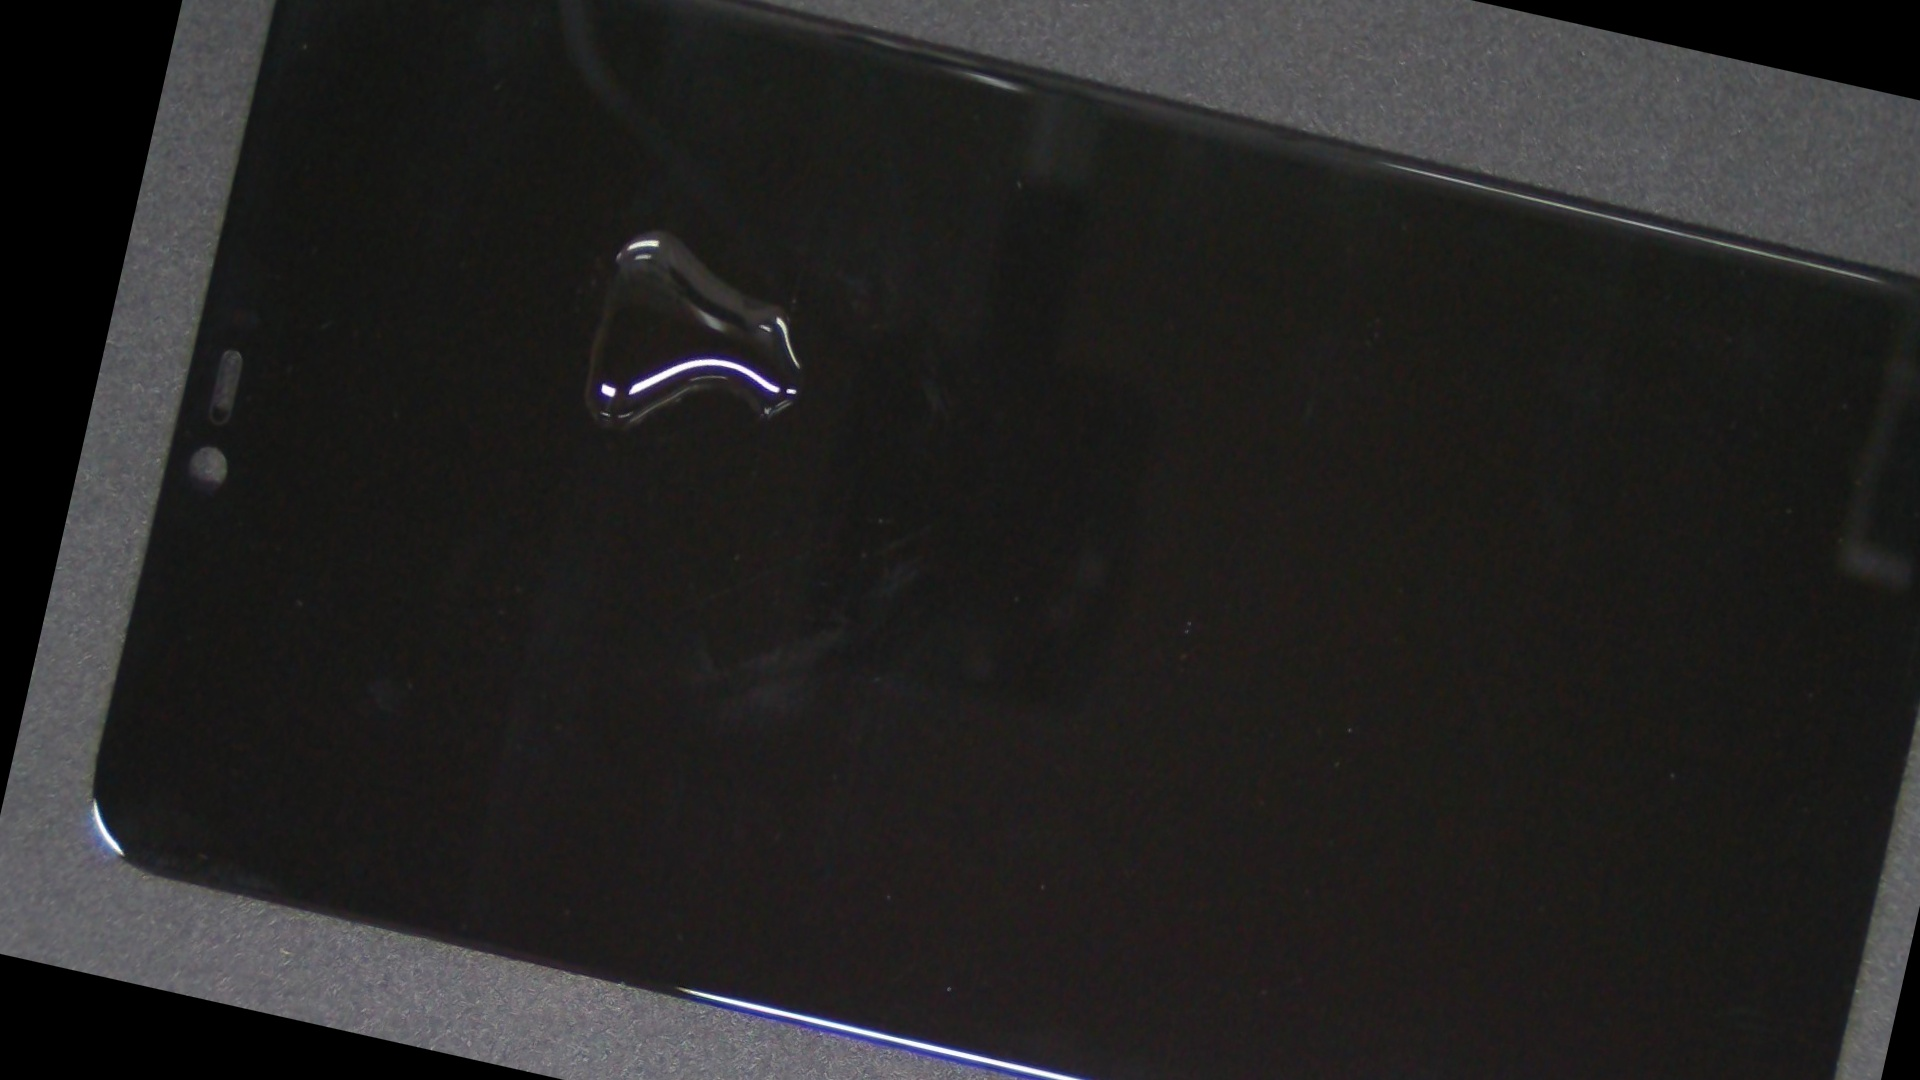oil: (364, 0, 953, 481)
